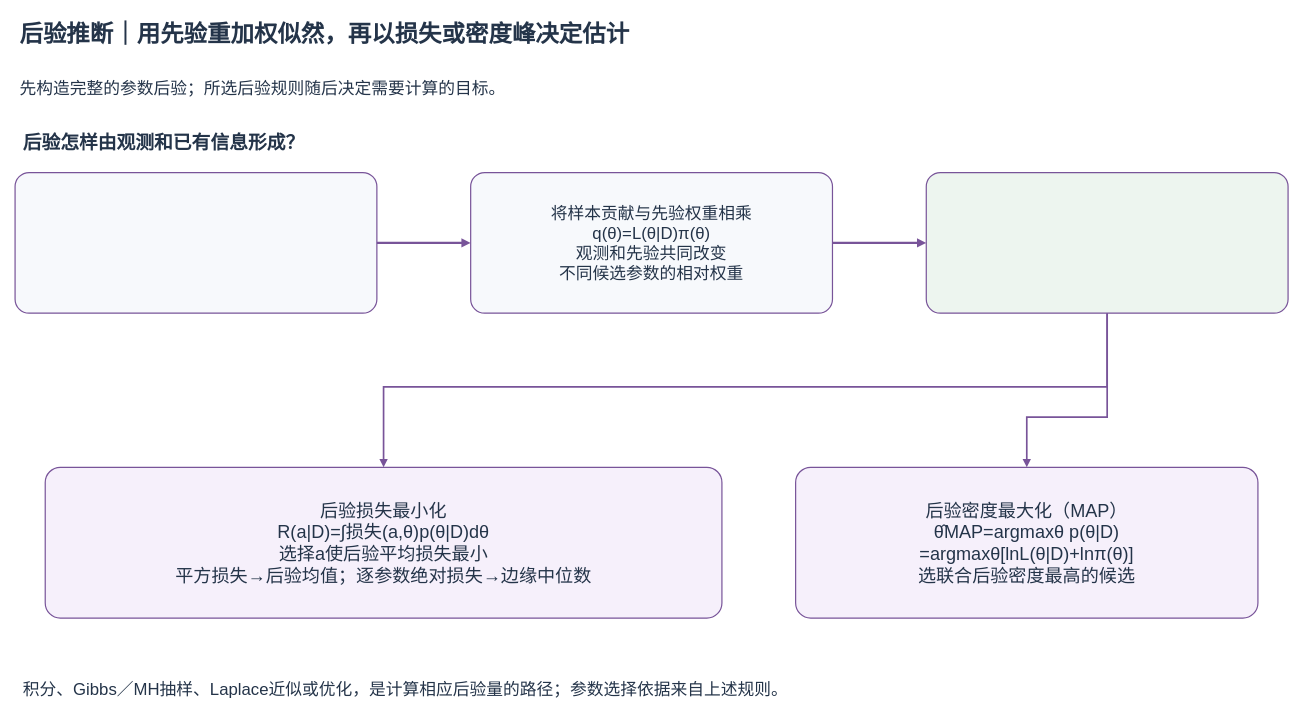
Image size: 1302x720. Some labels were removed from this diagram. The centre of each missing label's shape, as x and y in pixels:
"积分归一化为参数后验 Z=∫q(θ)dθ p(θ|D)=q(θ)/Z 积分在允许参数域内进行" goes at point 1106,242.
"计算候选参数的样本支持 L(θ|D)=∏ᵢfθ(xᵢ) π(θ)描述已有参数信息 同时限定模型与先验的允许域" goes at point 195,242.
